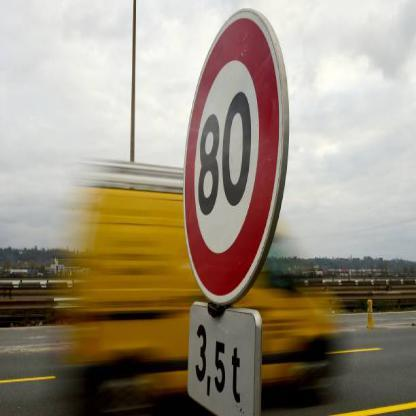Speed Limit 80: (184, 14, 274, 299)
